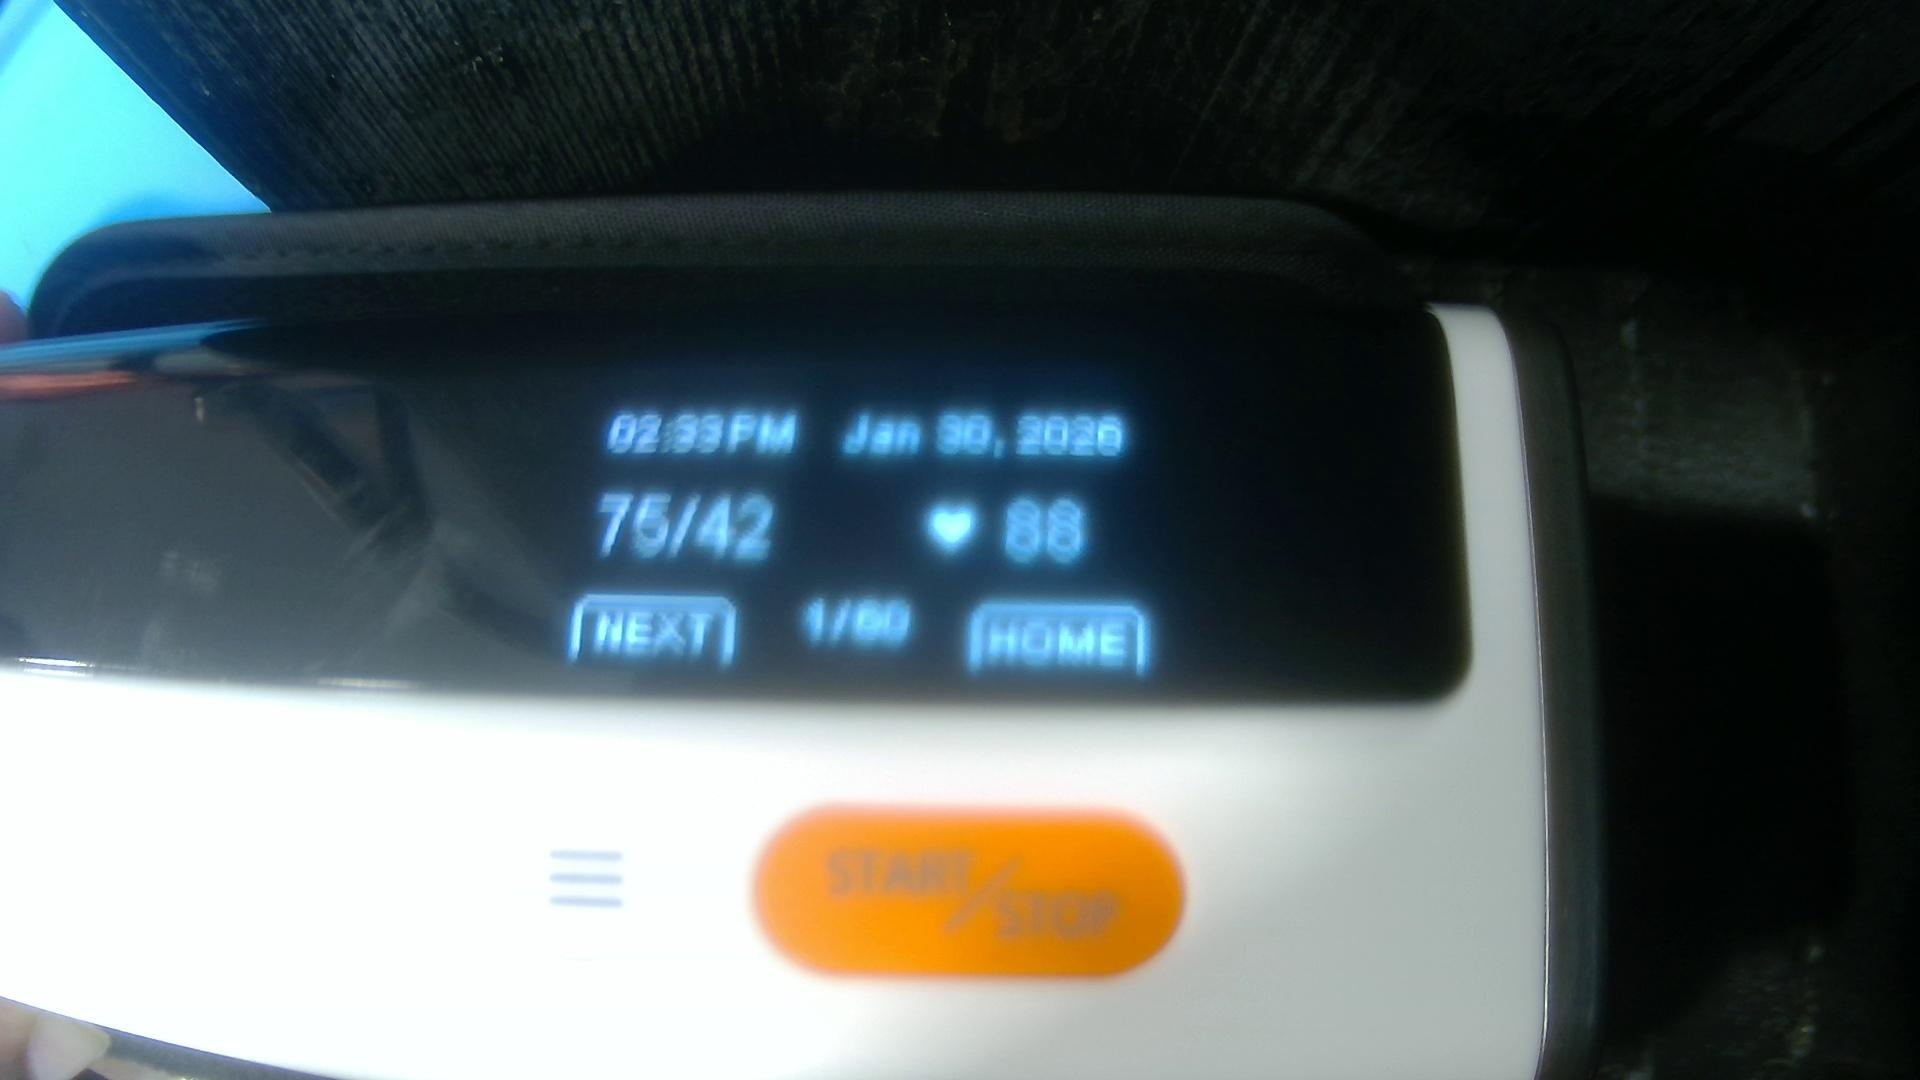DISPLAY: (26, 344, 1440, 669)
